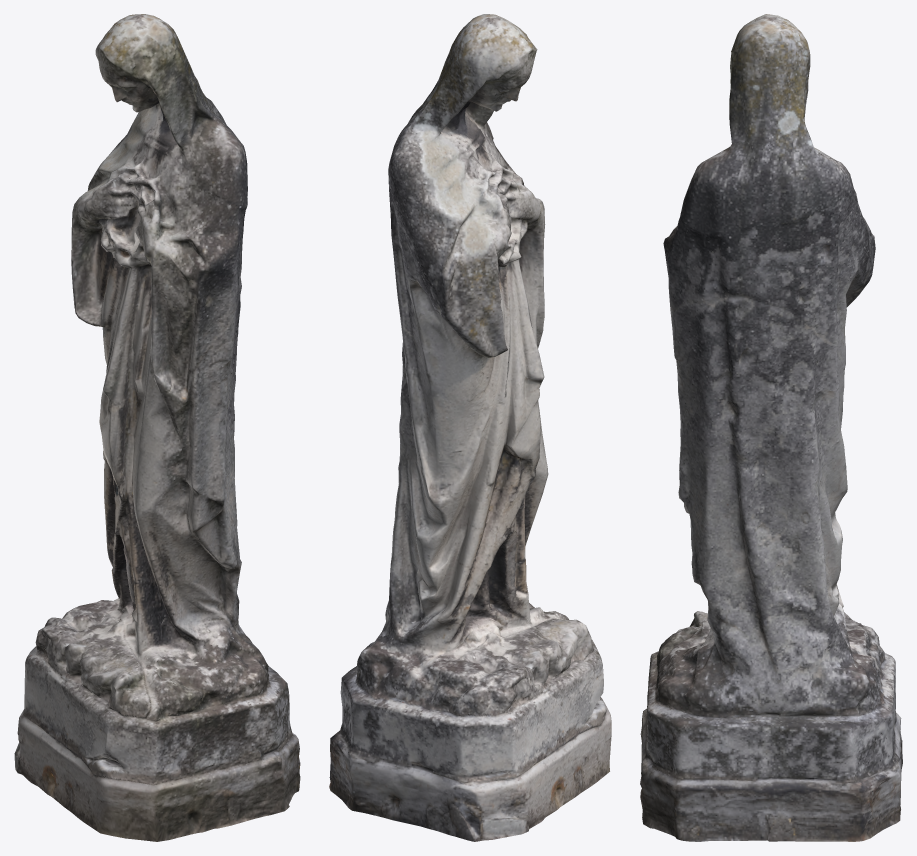
The model's file is sm_GraveSculpture_08_02.fbx.
3 renders of one model, left to right at view 1: azimuth 30°, elevation 25°; view 2: azimuth 150°, elevation 25°; view 3: azimuth 270°, elevation 25°, orthographic.
Visible parts, largest first — view 1: sm_GraveSculpture_08_02_LOD0; view 2: sm_GraveSculpture_08_02_LOD0; view 3: sm_GraveSculpture_08_02_LOD0.
Boxes of the visible parts, x1,y1,x2,y2 form: sm_GraveSculpture_08_02_LOD0: (14, 14, 300, 841); sm_GraveSculpture_08_02_LOD0: (329, 14, 611, 841); sm_GraveSculpture_08_02_LOD0: (640, 14, 902, 841).
Size of the model in its own units: 61.08 by 70.02 by 225.
